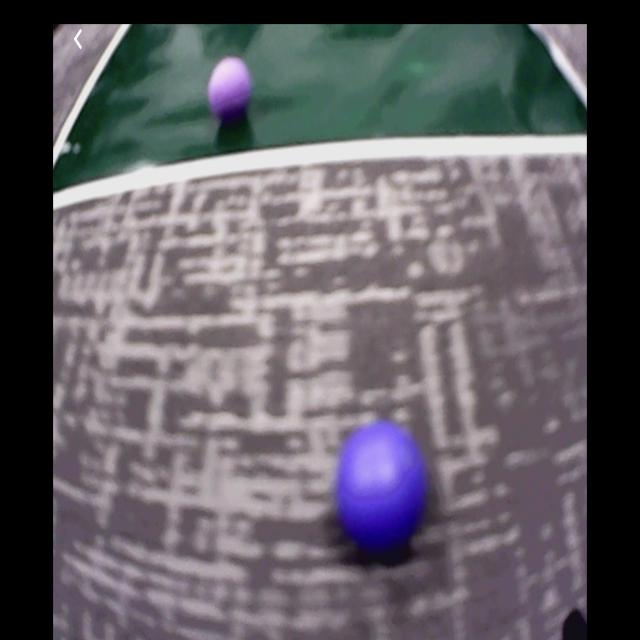ball: (337, 419, 424, 544), (207, 58, 253, 116)
